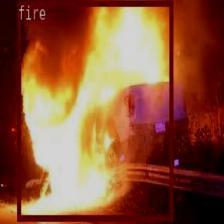fire: (16, 0, 172, 220)
